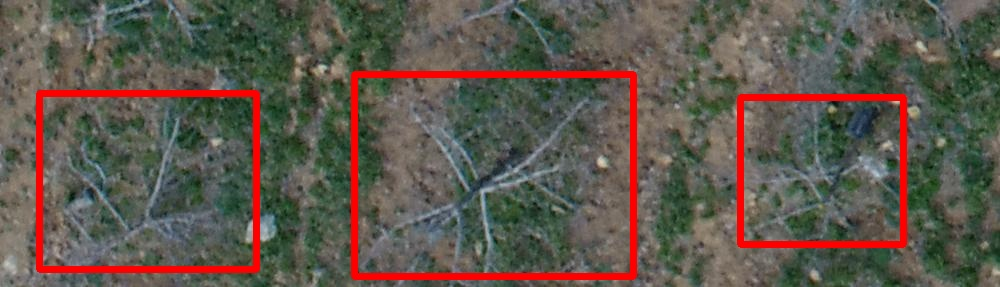apple: (354, 74, 633, 276), (39, 93, 256, 269), (740, 97, 903, 244)
